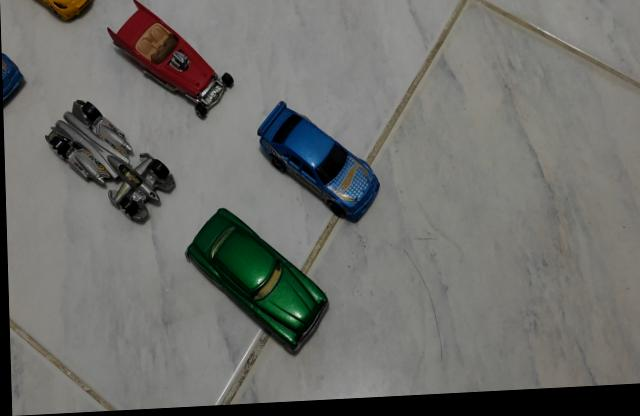03_V8: (105, 0, 235, 122)
04_MERZEDES: (255, 102, 379, 228), (1, 52, 25, 108)
05_DC121: (42, 99, 175, 228)
06_MASERATI: (183, 207, 329, 361)
07_RHLTURBO: (36, 0, 95, 23)
